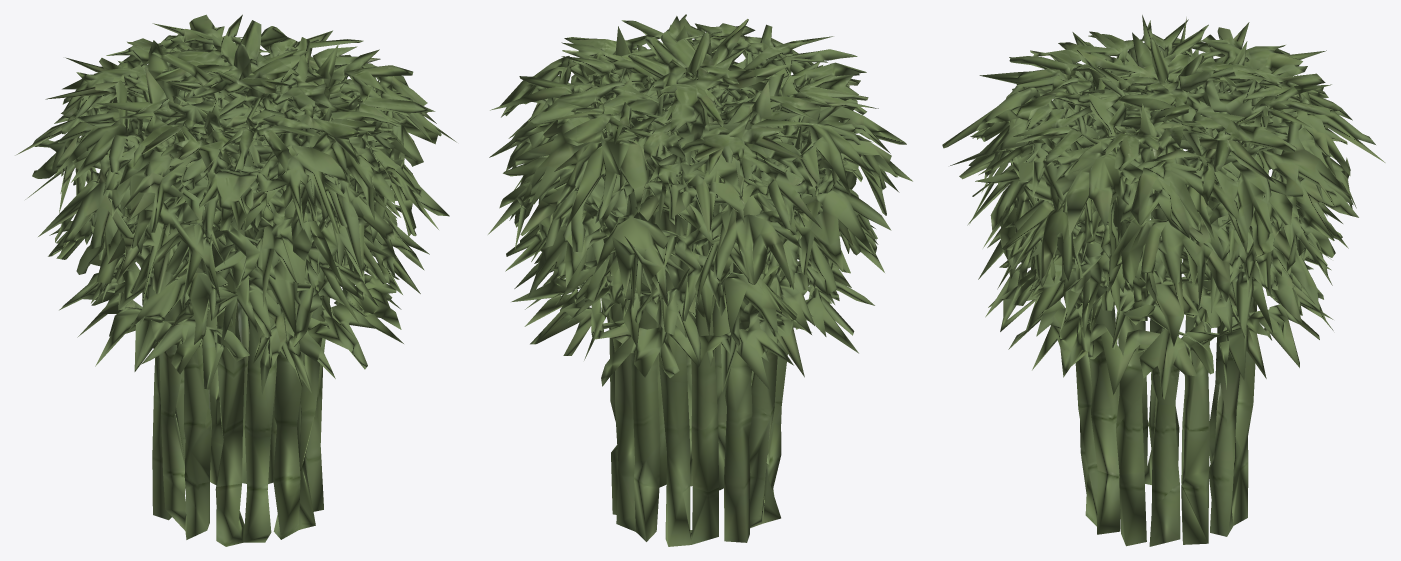
The model's file is bamboo-4.glb.
3 views of the same model, side by side, from view 1: azimuth 30°, elevation 25°; view 2: azimuth 150°, elevation 25°; view 3: azimuth 270°, elevation 25° (orthographic).
Bounding box in the file's own units: 1.56 × 1.89 × 1.61.
Materials: 1 (1 with a texture image).
